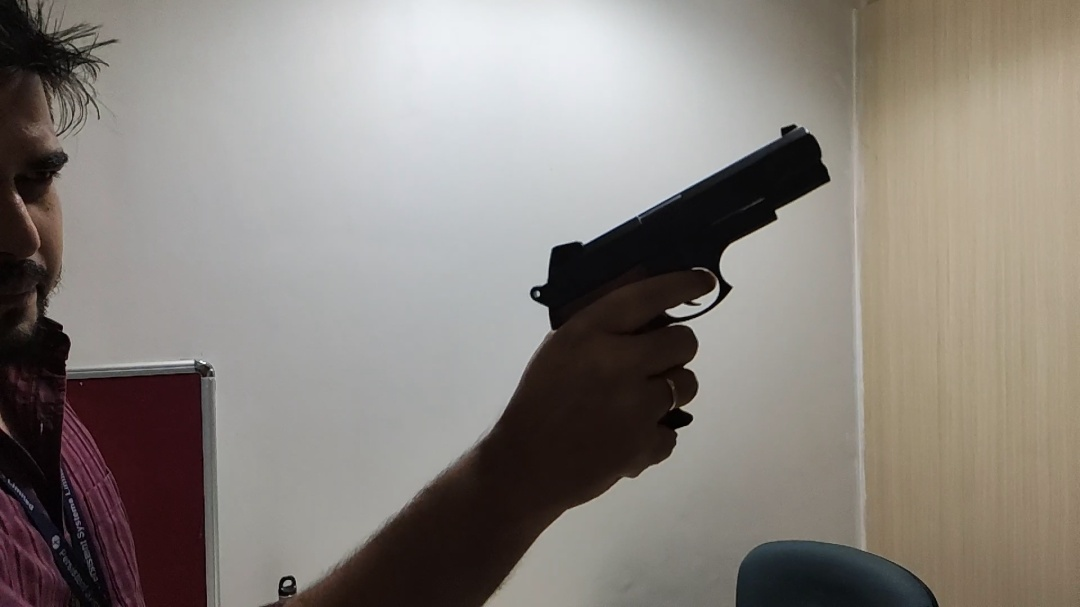gun: (530, 124, 832, 432)
